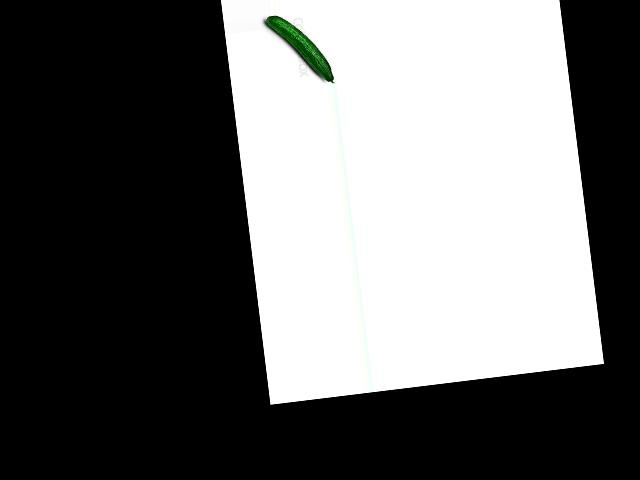cucumber: (264, 10, 334, 91)
